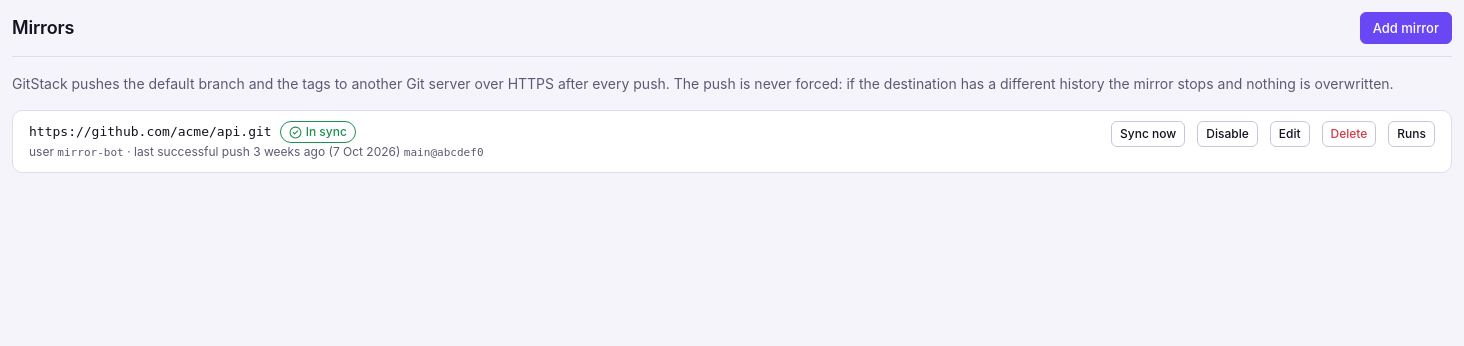
RepoMirrorsSection › mostra il log delle ultime esecuzioni
Step 1. Click the button with aria-label "Recent runs of" → (1412,134), box [1388, 121, 1435, 147]
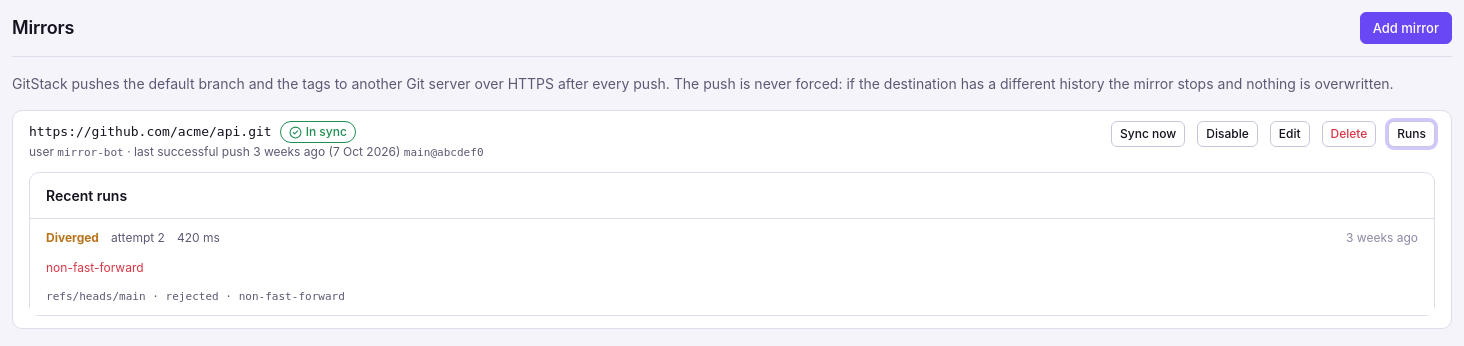
Now the text "Diverged" is shown, box [46, 229, 99, 247]
Now the text "refs/heads/main · rejected · non-fast-forward" is shown, box [46, 290, 345, 303]
